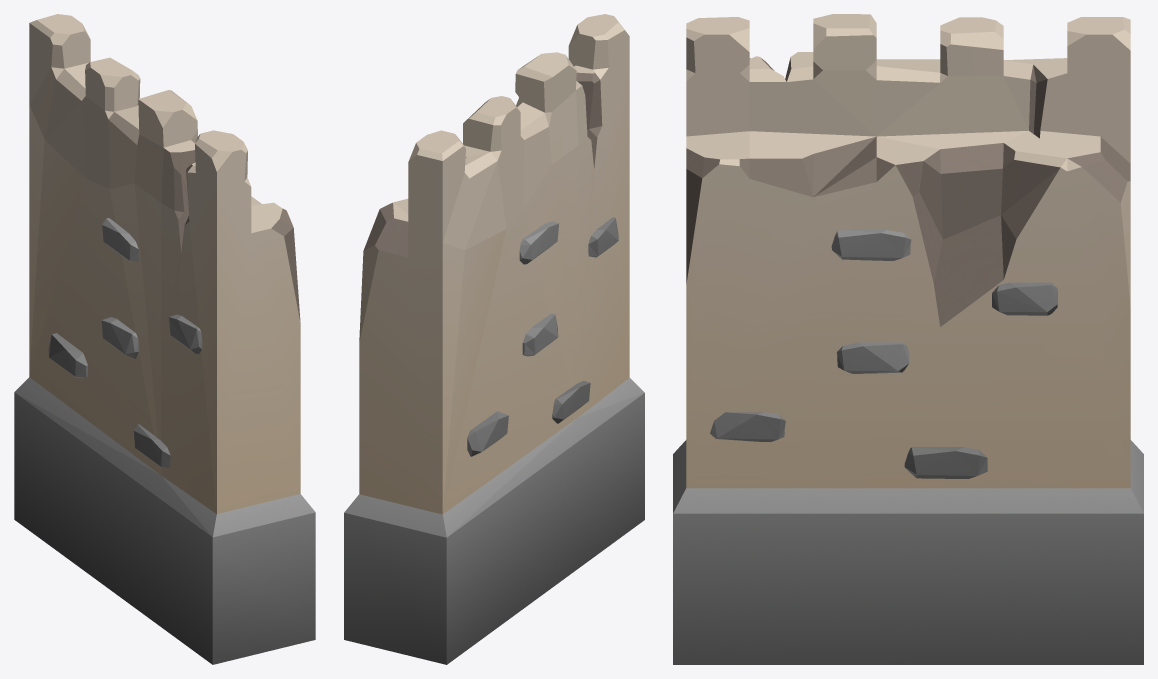
File: DamagedFortWall2.fbx
3 renders of one model, left to right at view 1: azimuth 30°, elevation 25°; view 2: azimuth 150°, elevation 25°; view 3: azimuth 270°, elevation 25°, orthographic. The views are drawn at different scales.
Visible parts, largest first — view 1: DamagedFortWall2; view 2: DamagedFortWall2; view 3: DamagedFortWall2.
Boxes of the visible parts, x1,y1,x2,y2 form: DamagedFortWall2: (14,14,315,664); DamagedFortWall2: (344,14,644,664); DamagedFortWall2: (673,14,1143,664).
Size of the model in its own units: 1.66 by 7.75 by 5.52.
